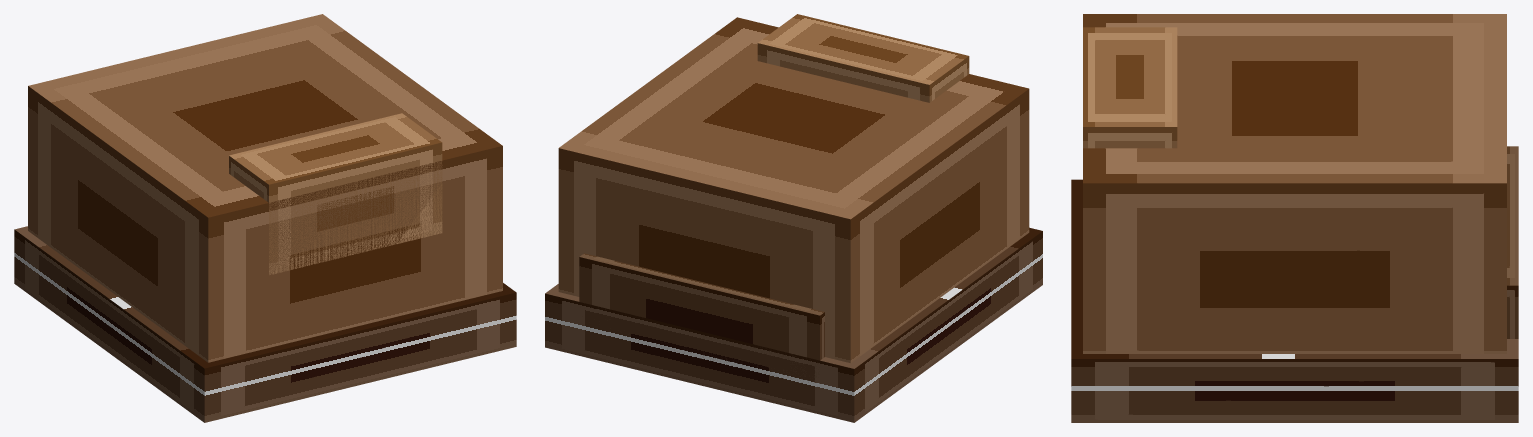
The picture shows the model from 3 angles, left to right: view 1: azimuth 30°, elevation 25°; view 2: azimuth 150°, elevation 25°; view 3: azimuth 270°, elevation 25°; orthographic projection. The views are drawn at different scales.
Visible parts, largest first — view 1: leather_head; view 2: leather_head; view 3: leather_head.
Part boxes in pixels (x1,y1,x2,y2): leather_head: (14,14,516,422); leather_head: (545,14,1042,422); leather_head: (1071,14,1518,422).
Size of the model in its own units: 0.36 by 0.24 by 0.38.
Materials: 4 (4 with a texture image).
